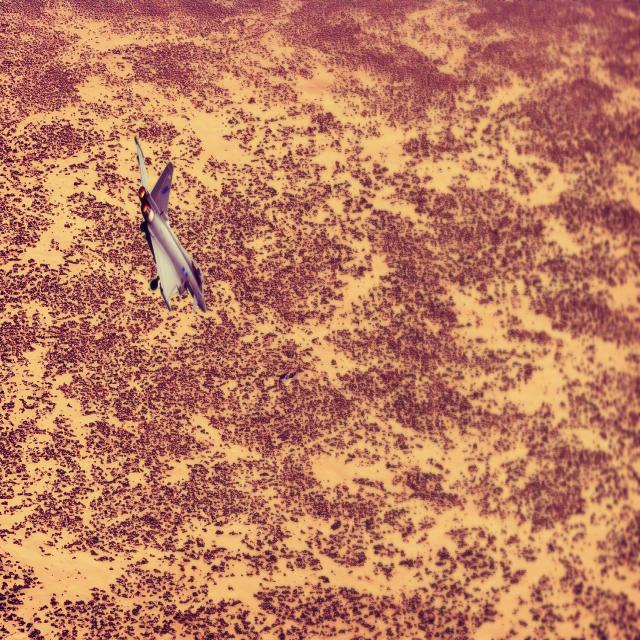airplane: (133, 135, 207, 314)
